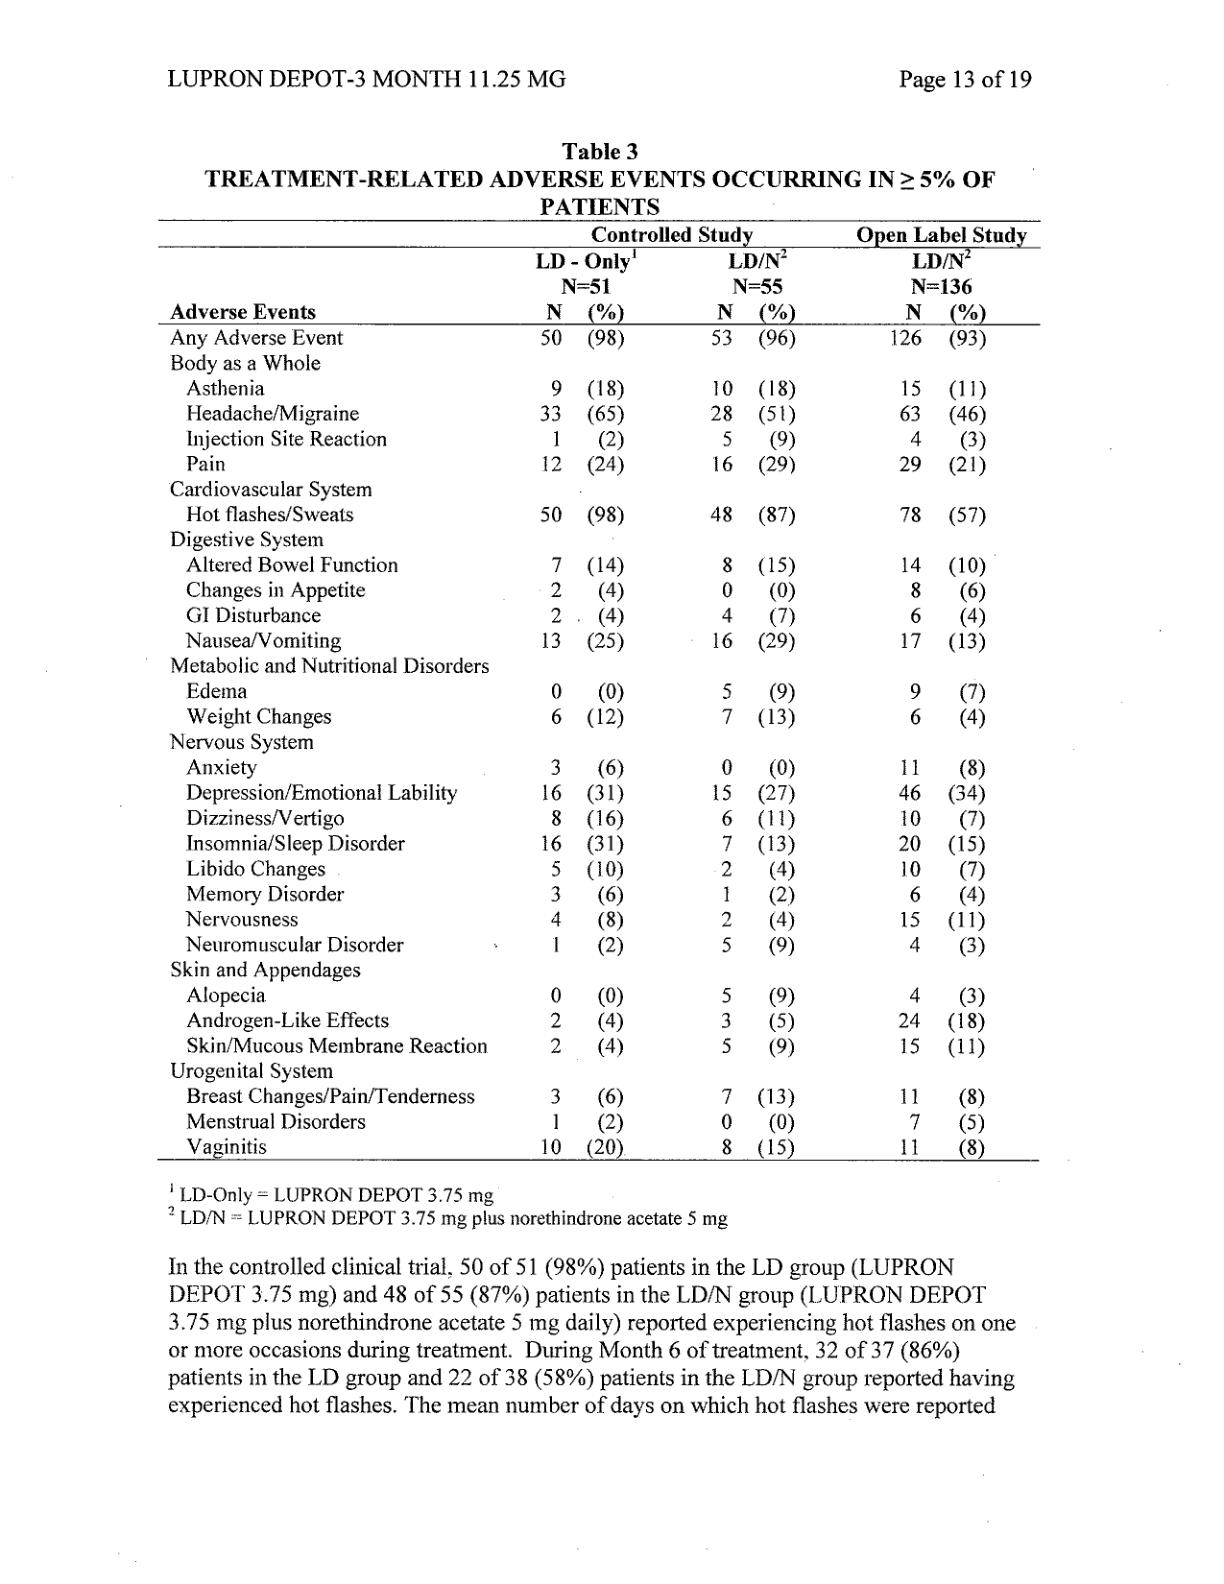partial_lined_merged_cells: (158, 219, 1043, 1164)
